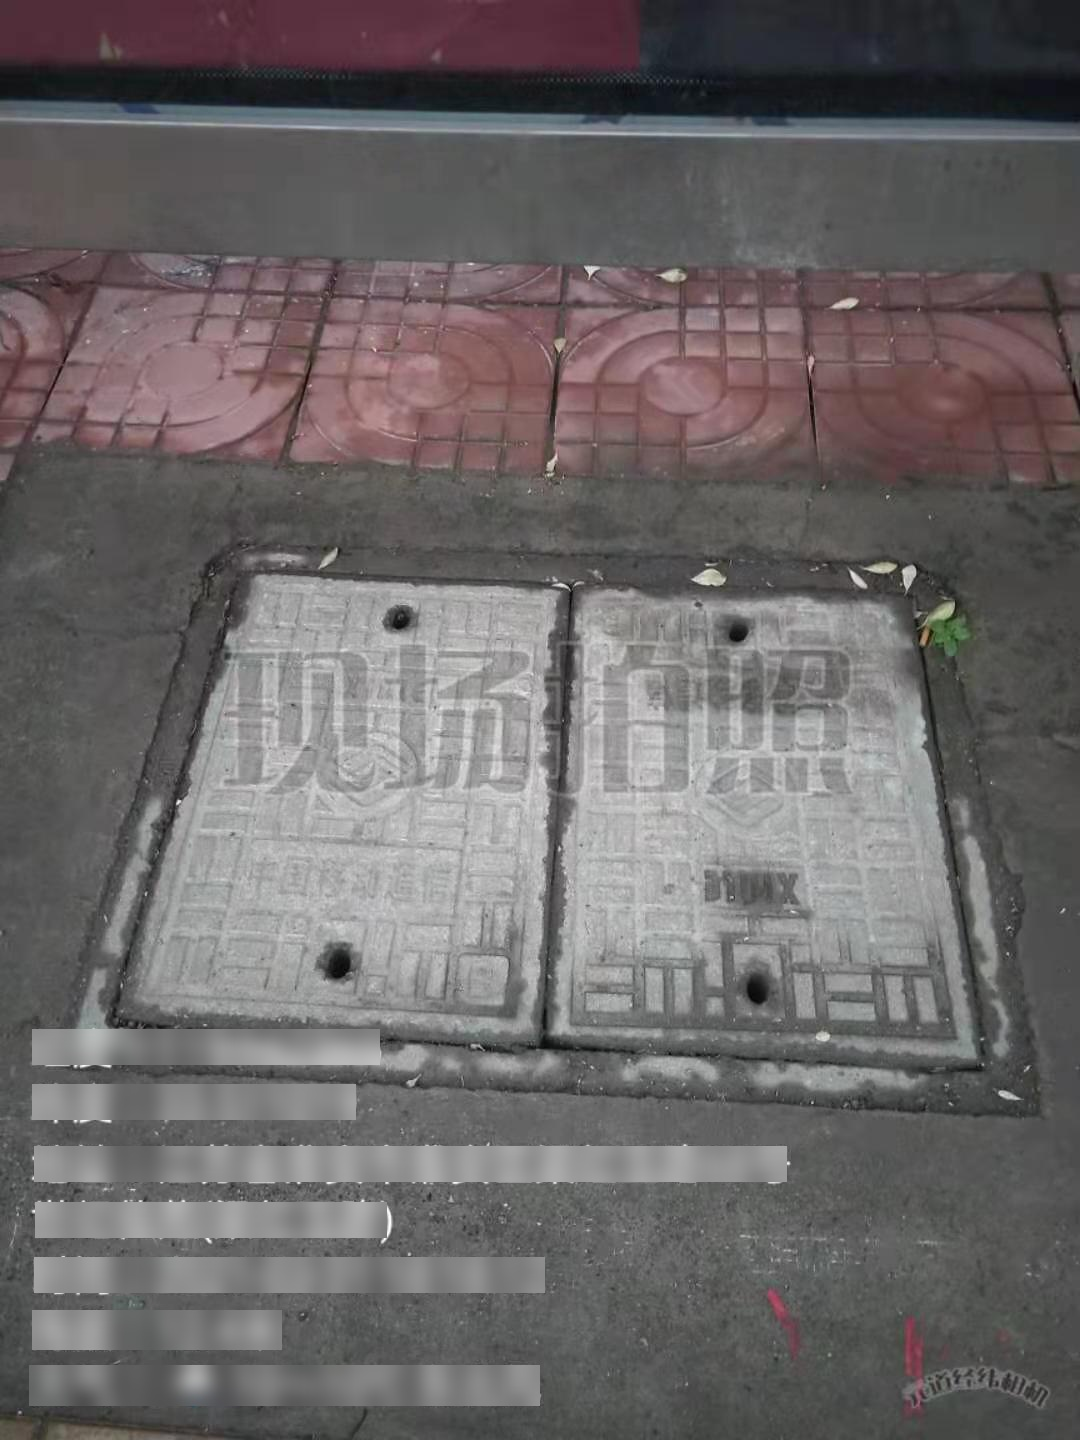good: (74, 544, 1032, 1118)
